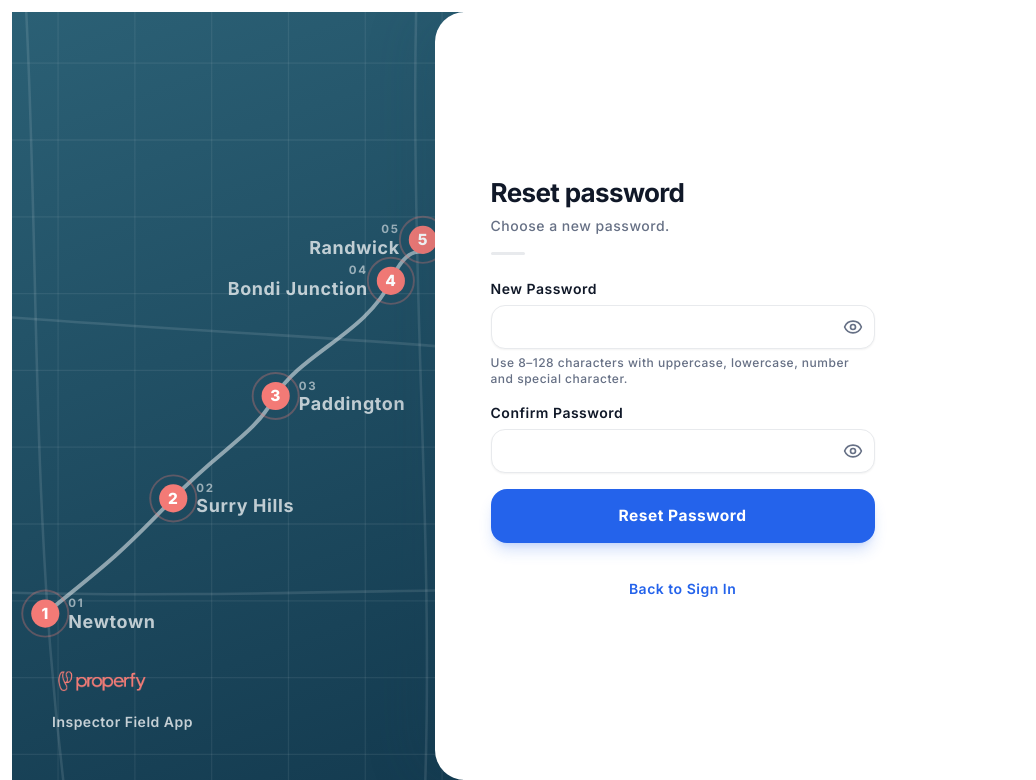
Test: ResetPasswordPage (PWA) › submits token and new password, then shows success state
The image size is (1036, 780).
Type "Str0ng!Pass" into the password field labelled "New Password". click: (682, 327)
box: x1=490 y1=305 x2=874 y2=349
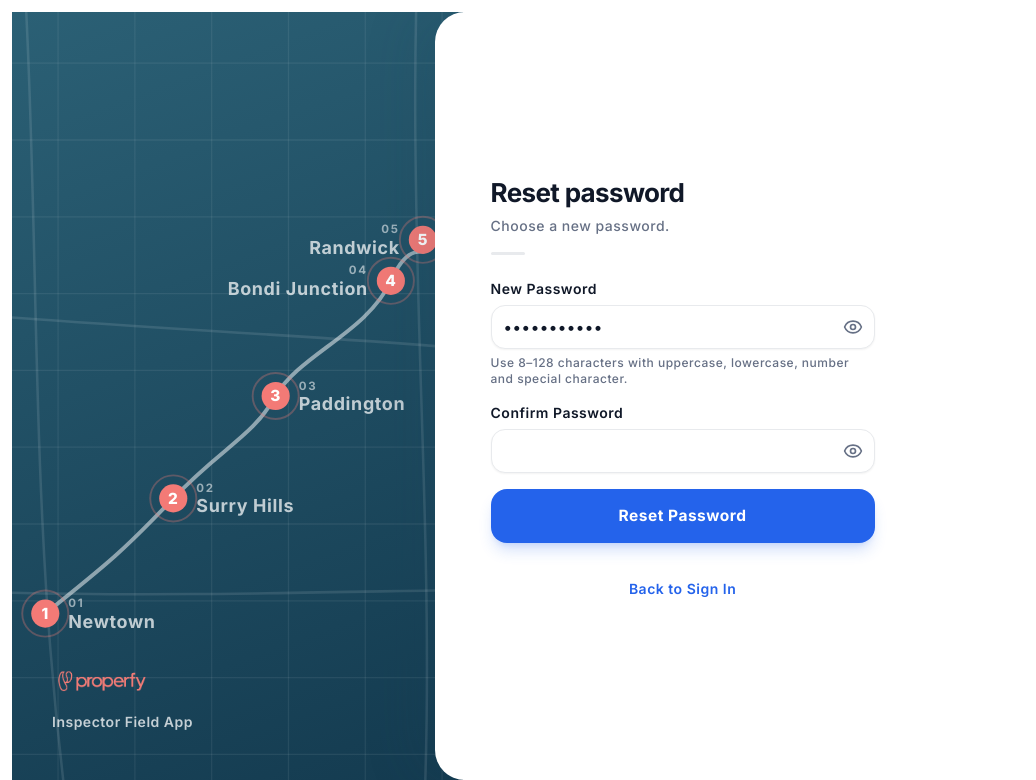
Type "Str0ng!Pass" into the password field labelled "Confirm Password". click: (682, 451)
box: x1=490 y1=429 x2=874 y2=473
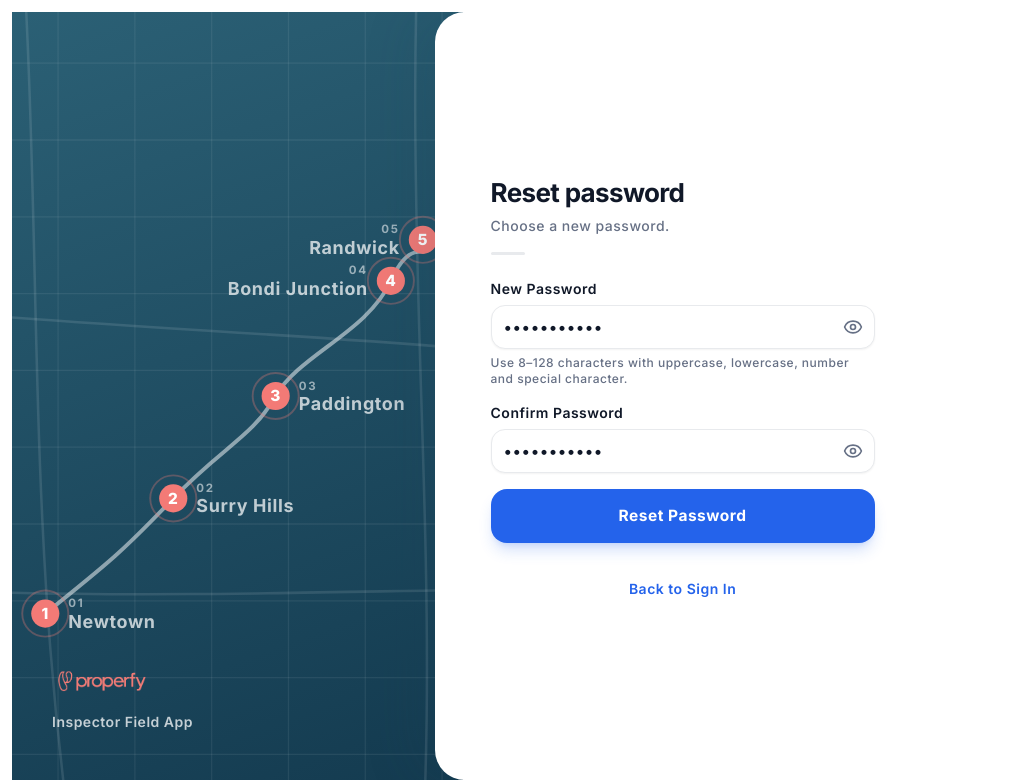
Click the button "Reset Password". click: (682, 516)
box: x1=490 y1=489 x2=874 y2=543
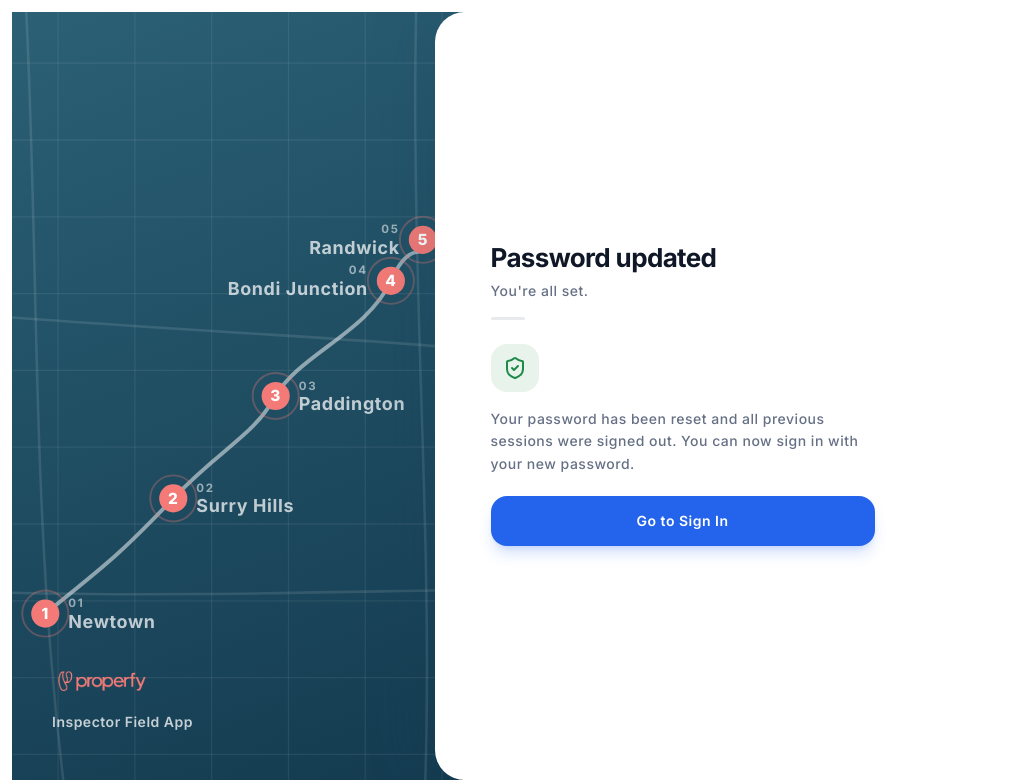
Expected: the heading "Password updated" is shown, x1=490 y1=242 x2=716 y2=273
Expected: the link "Go to Sign In" is shown, x1=490 y1=496 x2=874 y2=546
